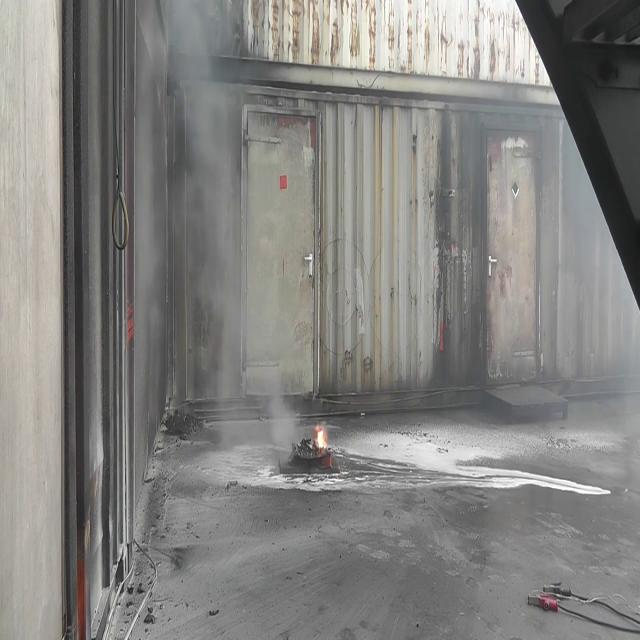Fire: (312, 418, 330, 458)
Smoke: (140, 7, 298, 473)
